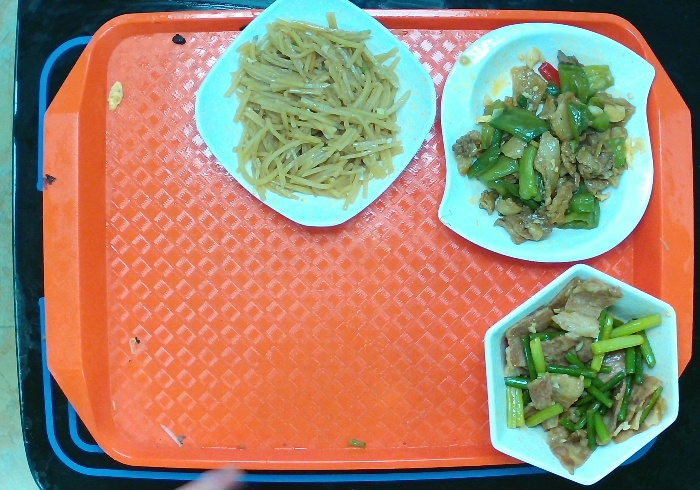RJxy-Liu_Jiao_Wan: (477, 259, 684, 490)
RJxy-Shuang_Jiao_Pan: (431, 17, 661, 268)
RJxy-Si_Fang_Wan: (188, 1, 441, 234)
